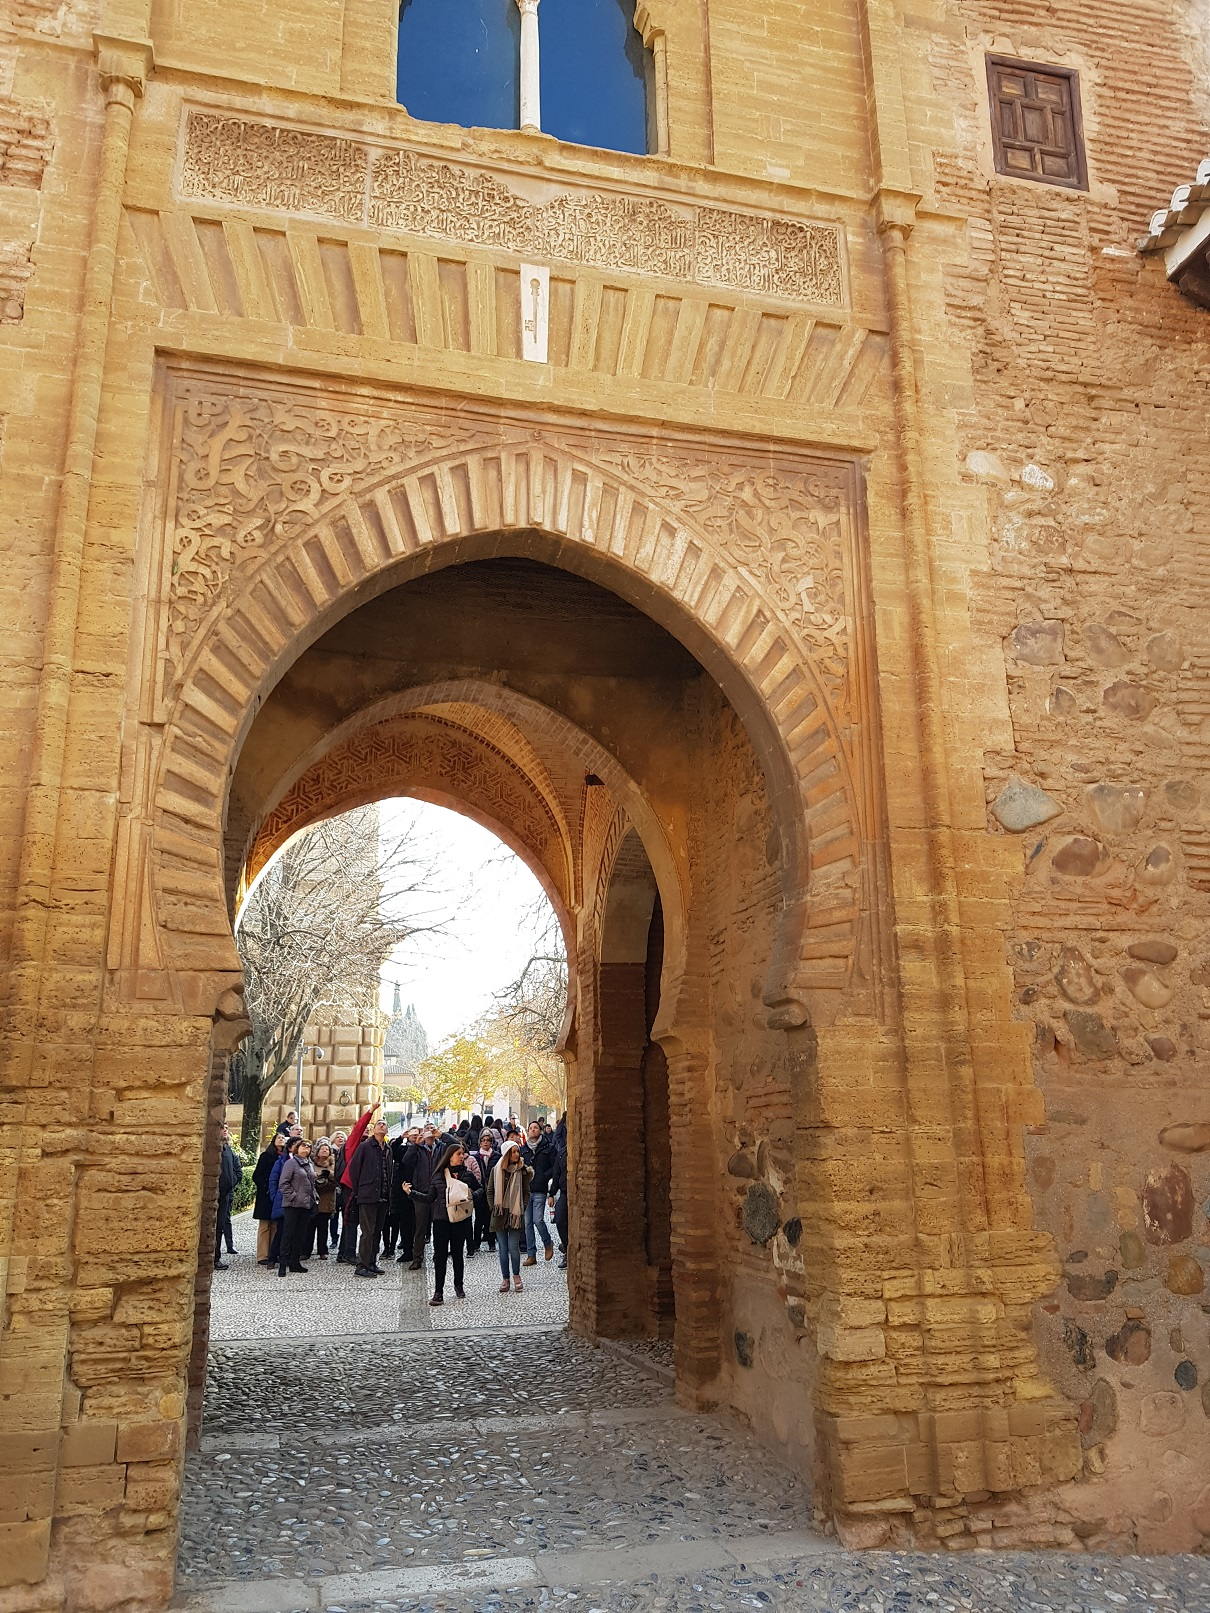arco-herradura: (191, 496, 848, 1065)
dintel-adovelado: (119, 205, 886, 417)
